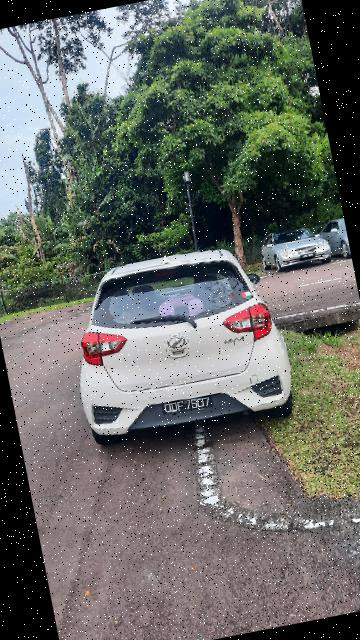License_Plate: (161, 393, 217, 423)
car: (59, 235, 302, 460), (248, 213, 333, 279)
